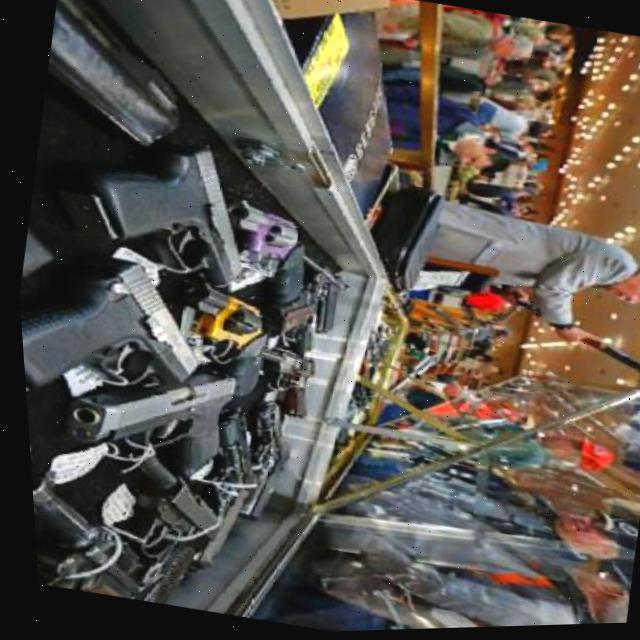gun: (36, 116, 268, 300), (12, 237, 218, 425), (49, 343, 236, 485), (24, 467, 158, 604), (197, 192, 321, 314), (163, 281, 276, 404), (214, 392, 300, 549)
